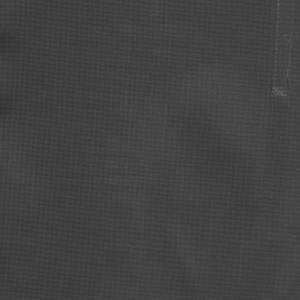Damage: (266, 1, 297, 105)
Wrinkle: (1, 29, 68, 128), (145, 215, 211, 300)
